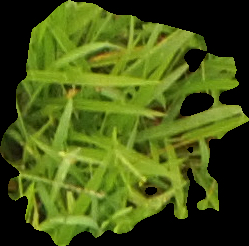grass: (1, 1, 248, 244)
